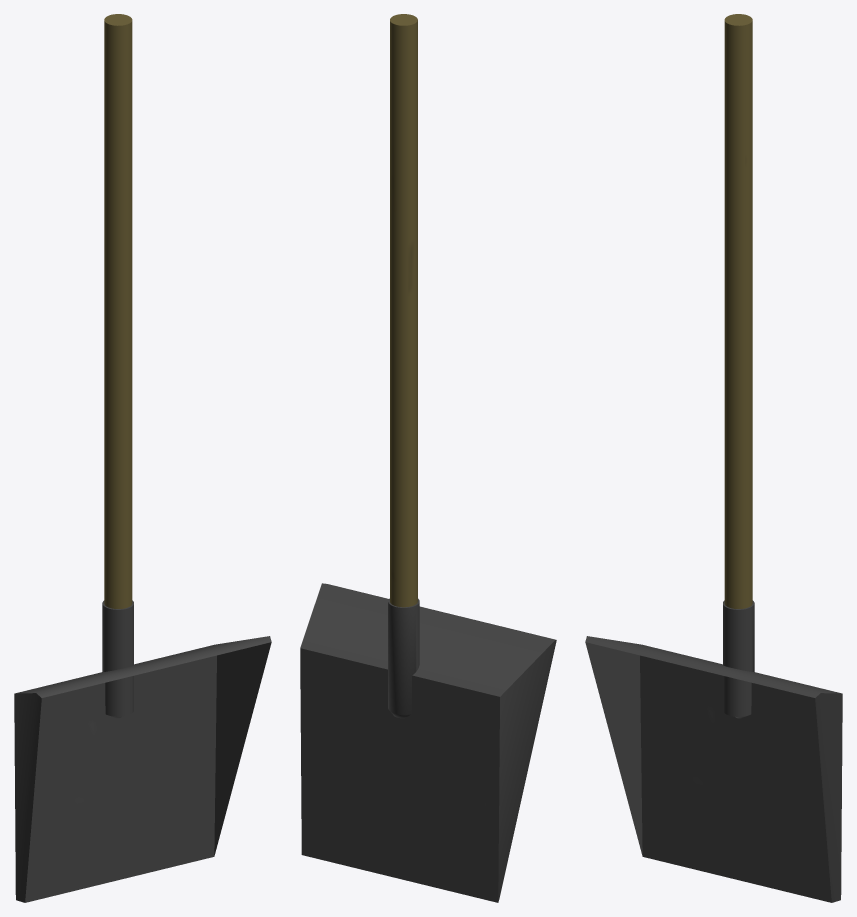
File: excavator.fbx
3 renders of one model, left to right at view 1: azimuth 30°, elevation 25°; view 2: azimuth 150°, elevation 25°; view 3: azimuth 330°, elevation 25°, orthographic.
Parts seen in each view (by area): view 1: Plane.001; view 2: Plane.001; view 3: Plane.001.
Boxes of the visible parts, bbox=[...] form: Plane.001: bbox=[14, 14, 271, 902]; Plane.001: bbox=[300, 14, 556, 902]; Plane.001: bbox=[585, 14, 842, 902].
Size of the model in its own units: 89.2 by 313 by 30.64.
